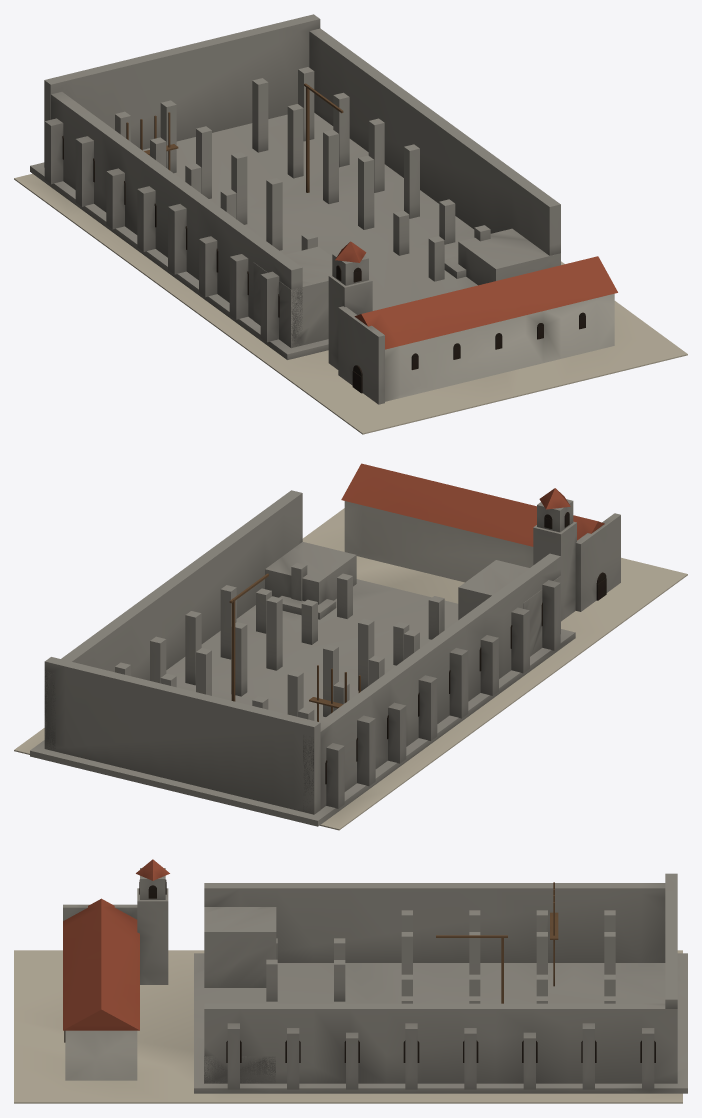
The model's file is cathedral-1620.glb.
The picture shows the model from 3 angles, top to bottom: view 1: azimuth 30°, elevation 25°; view 2: azimuth 150°, elevation 25°; view 3: azimuth 270°, elevation 25°; orthographic projection. The views are drawn at different scales.
Parts seen in each view (by area): view 1: p2_new cathedral, p0_foundations, p1_old church; view 2: p2_new cathedral, p0_foundations, p1_old church; view 3: p2_new cathedral, p0_foundations, p1_old church.
Boxes of the visible parts, x1,y1,x2,y2 form: p2_new cathedral: (44, 14, 560, 348); p0_foundations: (14, 113, 687, 434); p1_old church: (328, 241, 617, 404); p2_new cathedral: (44, 490, 560, 814); p0_foundations: (14, 508, 687, 830); p1_old church: (341, 463, 620, 621); p2_new cathedral: (204, 873, 677, 1089); p0_foundations: (14, 950, 687, 1103); p1_old church: (63, 859, 169, 1080).
Size of the model in its own units: 70 by 25.75 by 131.
